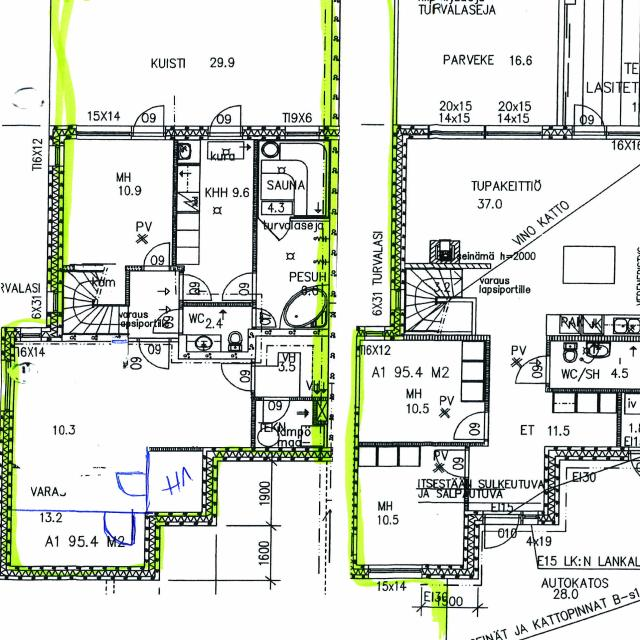door: (484, 511, 519, 557), (210, 95, 241, 139), (133, 96, 164, 139), (574, 97, 605, 139), (258, 217, 290, 251), (454, 411, 490, 439), (514, 355, 550, 383), (138, 338, 168, 370), (221, 363, 255, 391), (433, 449, 468, 476), (104, 512, 133, 543), (222, 274, 255, 300), (179, 274, 210, 299), (263, 397, 290, 425), (144, 242, 170, 271), (153, 309, 183, 332), (120, 473, 149, 495), (251, 308, 276, 327), (630, 446, 640, 491)
